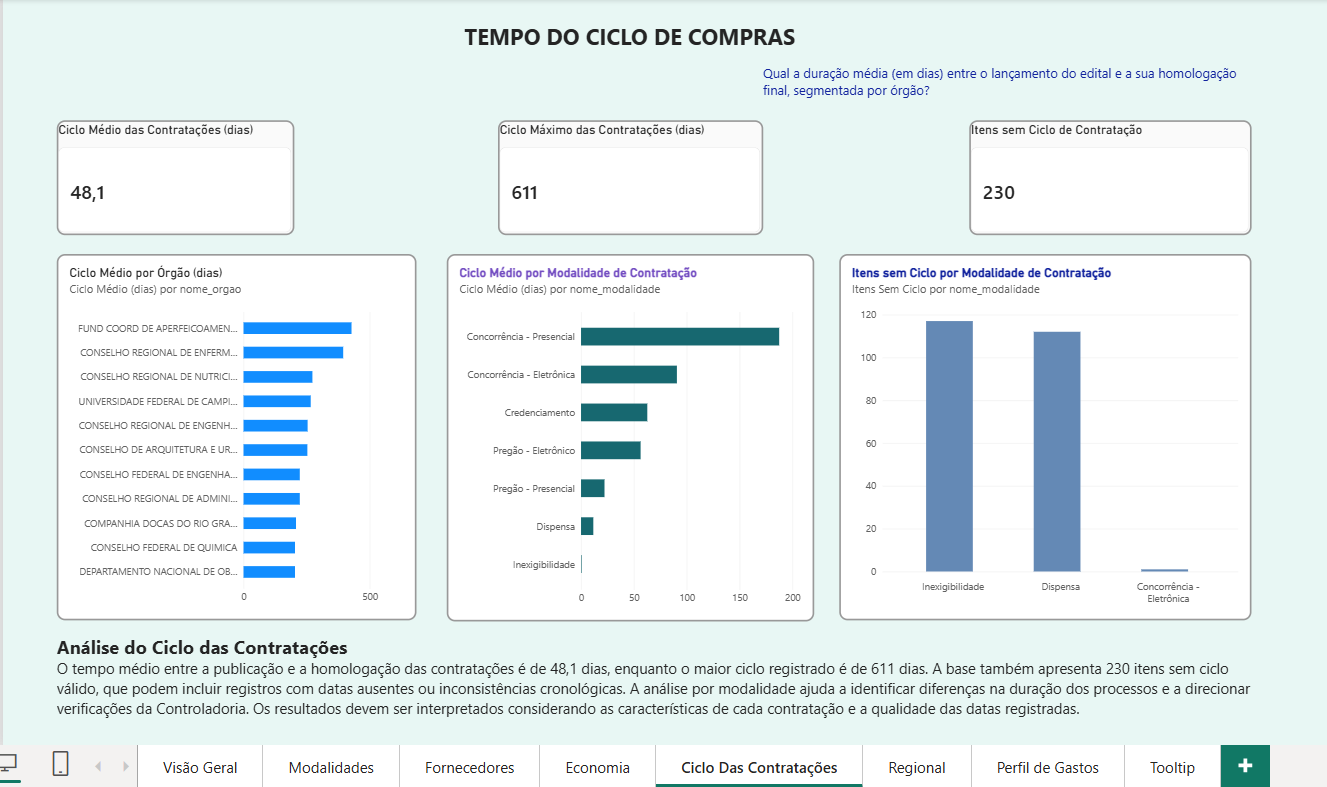

The page's visual inventory and layout, read from the dashboard file:
{"tool":"powerbi","page":{"name":"Ciclo Das Contratações","canvas":[1920,1080],"ordinal":5},"visuals":[{"type":"cardVisual","title":"Ciclo Médio das Contratações (dias)","fields":{"Data":["Medidas.Ciclo Médio (dias)"]},"box":[77.8,175.5,343.8,166.5],"z":0},{"type":"cardVisual","title":"Ciclo Máximo das Contratações (dias)","fields":{"Data":["Medidas.Ciclo Máximo (dias)"]},"box":[716.6,175.5,383.6,166.5],"z":1000},{"type":"cardVisual","title":"Itens sem Ciclo de Contratação","fields":{"Data":["Medidas.Itens Sem Ciclo"]},"box":[1398.9,175.5,409,166.5],"z":2000},{"type":"clusteredBarChart","title":"Ciclo Médio por Modalidade de Contratação","fields":{"Category":["pncp_controladoria dim_modalidade.nome_modalidade"],"Y":["Medidas.Ciclo Médio (dias)"]},"box":[642.4,369.2,532,532],"z":3000},{"type":"columnChart","title":"Itens sem Ciclo por Modalidade de Contratação","fields":{"Category":["pncp_controladoria dim_modalidade.nome_modalidade"],"Y":["Medidas.Itens Sem Ciclo"]},"box":[1210.7,369.2,597.2,530.2],"z":4000},{"type":"textbox","box":[77.8,919.3,1730,148.4],"z":5000},{"type":"clusteredBarChart","title":"Ciclo Médio por Órgão (dias)","fields":{"Category":["pncp_controladoria dim_orgao.nome_orgao"],"Y":["Medidas.Ciclo Médio (dias)"]},"box":[77.8,369.2,521.2,530.2],"z":6000},{"type":"textbox","box":[667.8,32.6,479.6,74.2],"z":7000},{"type":"textbox","box":[1100.3,94.1,707.6,50.7],"z":8000}]}

Visuals, with their boxes on the page's 1920x1080 design canvas (x1, y1, x2, y2). These are canvas units, not pixel positions in the 1327x787 screenshot, which may show the page scaled, cropped or inside an application window:
"Ciclo Médio das Contratações (dias)" cardVisual: region(78, 176, 422, 342)
"Ciclo Máximo das Contratações (dias)" cardVisual: region(717, 176, 1100, 342)
"Itens sem Ciclo de Contratação" cardVisual: region(1399, 176, 1808, 342)
"Ciclo Médio por Modalidade de Contratação" clusteredBarChart: region(642, 369, 1174, 901)
"Itens sem Ciclo por Modalidade de Contratação" columnChart: region(1211, 369, 1808, 899)
textbox: region(78, 919, 1808, 1068)
"Ciclo Médio por Órgão (dias)" clusteredBarChart: region(78, 369, 599, 899)
textbox: region(668, 33, 1147, 107)
textbox: region(1100, 94, 1808, 145)
